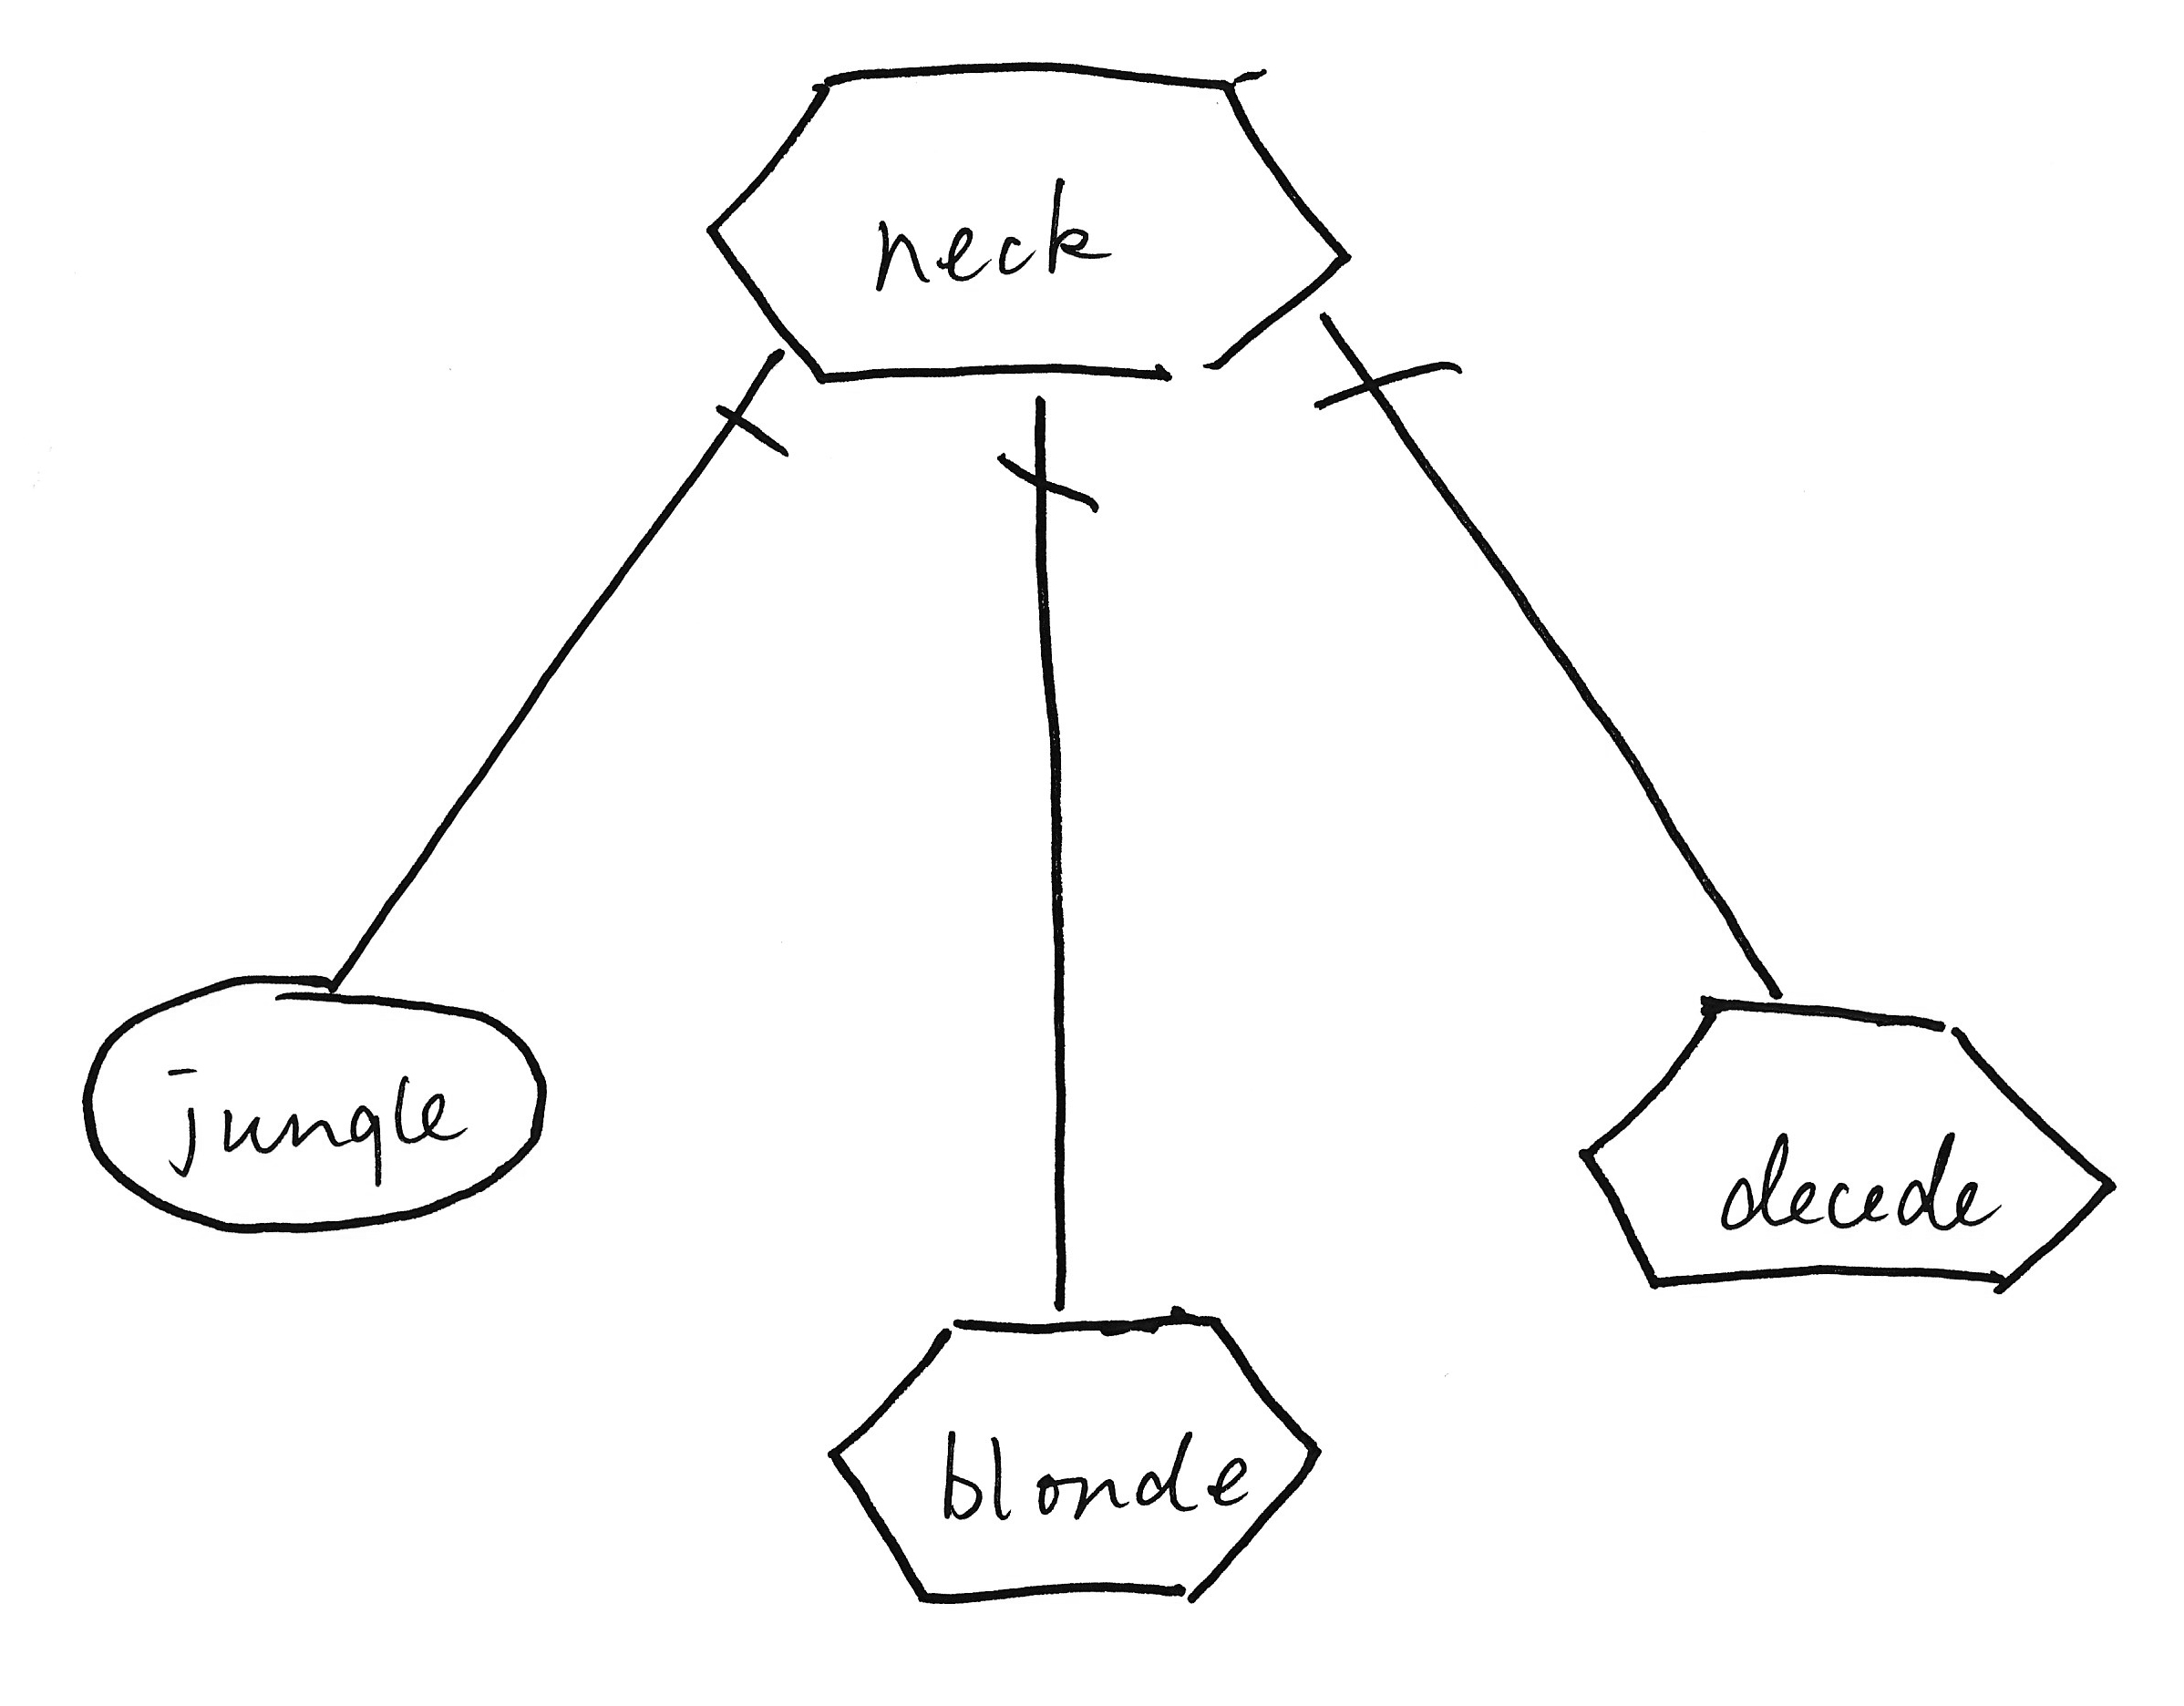and: (1301, 321, 1493, 434), (977, 397, 1110, 542), (698, 356, 807, 482)
goal: (60, 955, 564, 1251)
or: (690, 30, 1361, 393)
task: (1551, 983, 2136, 1322), (812, 1286, 1333, 1623)
